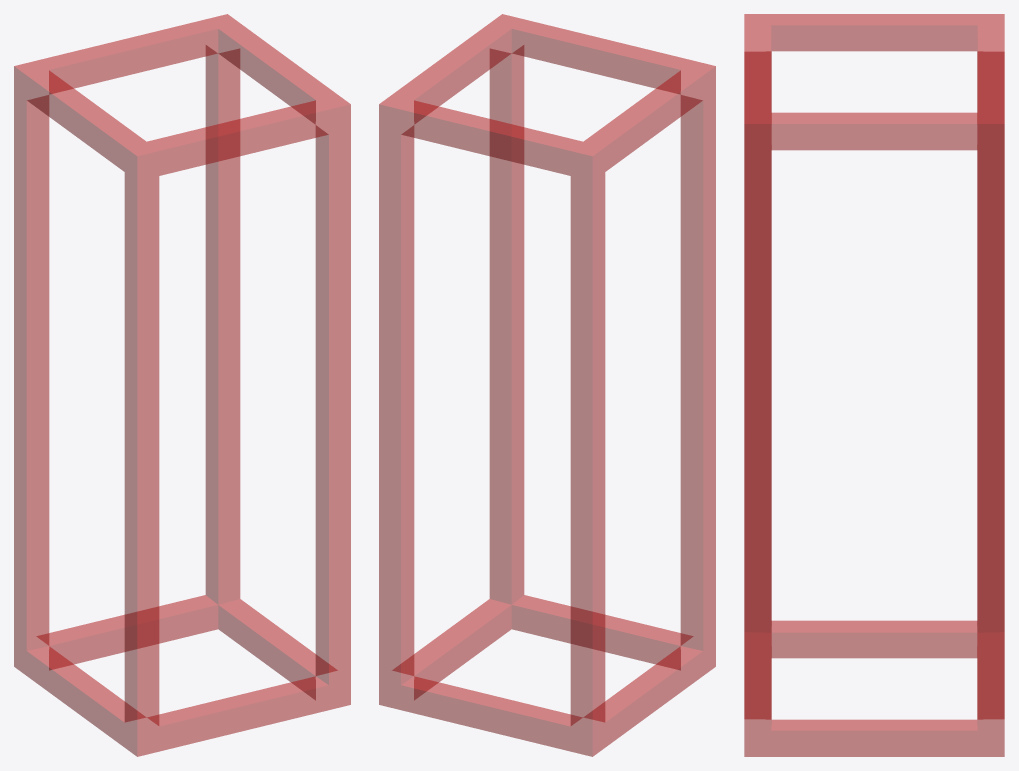
The model's file is cuboid.gltf.
The picture shows the model from 3 angles, left to right: view 1: azimuth 30°, elevation 25°; view 2: azimuth 150°, elevation 25°; view 3: azimuth 270°, elevation 25°; orthographic projection. The views are drawn at different scales.
Visible parts, largest first — view 1: pCube1; view 2: pCube1; view 3: pCube1.
Part boxes in pixels (left/top/right/bottom): pCube1: left=14, top=14, right=350, bottom=756; pCube1: left=379, top=14, right=715, bottom=756; pCube1: left=744, top=14, right=1004, bottom=756.
Bounding box in the file's own units: 5.54 × 14.88 × 5.54.
